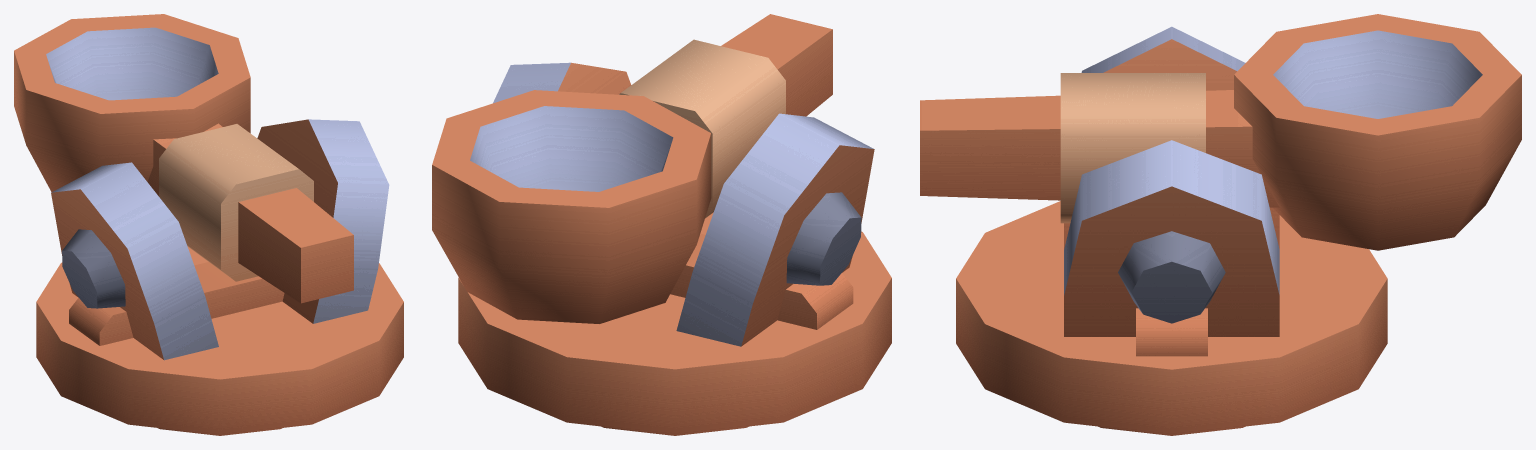
Rendered from weapon-catapult.glb.
3 views of the same model, side by side, from view 1: azimuth 30°, elevation 25°; view 2: azimuth 150°, elevation 25°; view 3: azimuth 270°, elevation 25° (orthographic). The views are drawn at different scales.
Visible parts, largest first — view 1: weapon-catapult, catapult; view 2: weapon-catapult, catapult; view 3: weapon-catapult, catapult.
Part boxes in pixels (x1,y1,x2,y2): weapon-catapult: (36, 119, 403, 435); catapult: (14, 14, 353, 303); weapon-catapult: (458, 62, 891, 435); catapult: (432, 14, 832, 323); weapon-catapult: (956, 26, 1387, 435); catapult: (920, 14, 1521, 250).
Bounding box in the file's own units: 0.6 × 0.4625 × 0.8366.
1 material, 1 textured.
